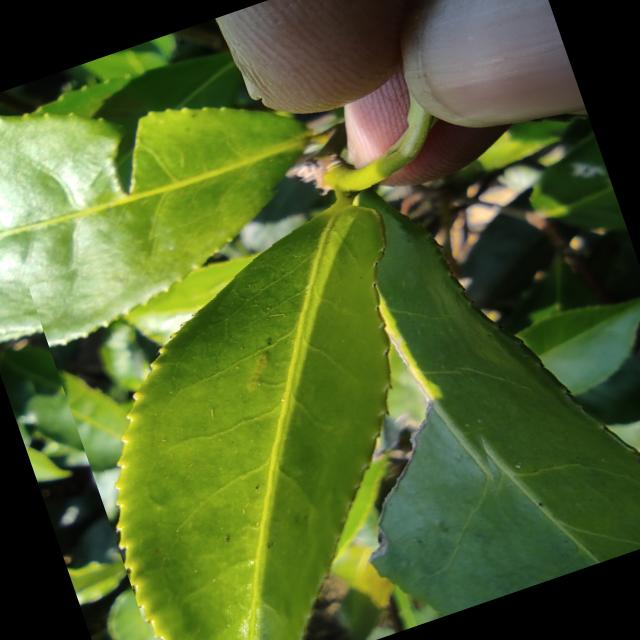Category C(4-7 days): (22, 142, 545, 640)
